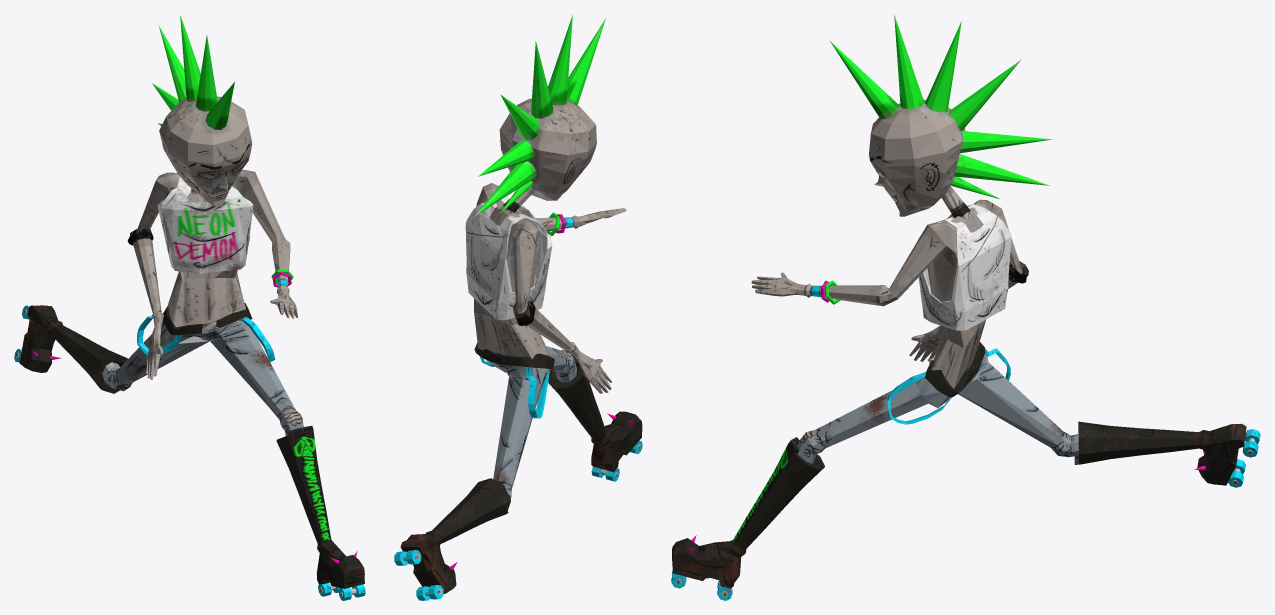
File: punkAnimation_000035.obj
The picture shows the model from 3 angles, left to right: view 1: azimuth 30°, elevation 25°; view 2: azimuth 150°, elevation 25°; view 3: azimuth 270°, elevation 25°; orthographic projection. The views are drawn at different scales.
Parts seen in each view (by area): view 1: Cube.004_Cube.003; view 2: Cube.004_Cube.003; view 3: Cube.004_Cube.003.
Part boxes in pixels (x1,y1,x2,y2): Cube.004_Cube.003: (14, 15, 365, 600); Cube.004_Cube.003: (394, 14, 642, 600); Cube.004_Cube.003: (671, 15, 1260, 600).
Size of the model in its own units: 1.62 by 6.45 by 6.18.
